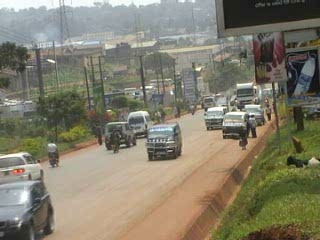Car: (0, 180, 60, 238), (0, 149, 45, 189), (102, 117, 138, 151)
Motorcycle: (46, 138, 61, 172), (107, 127, 122, 154), (187, 97, 198, 115)
